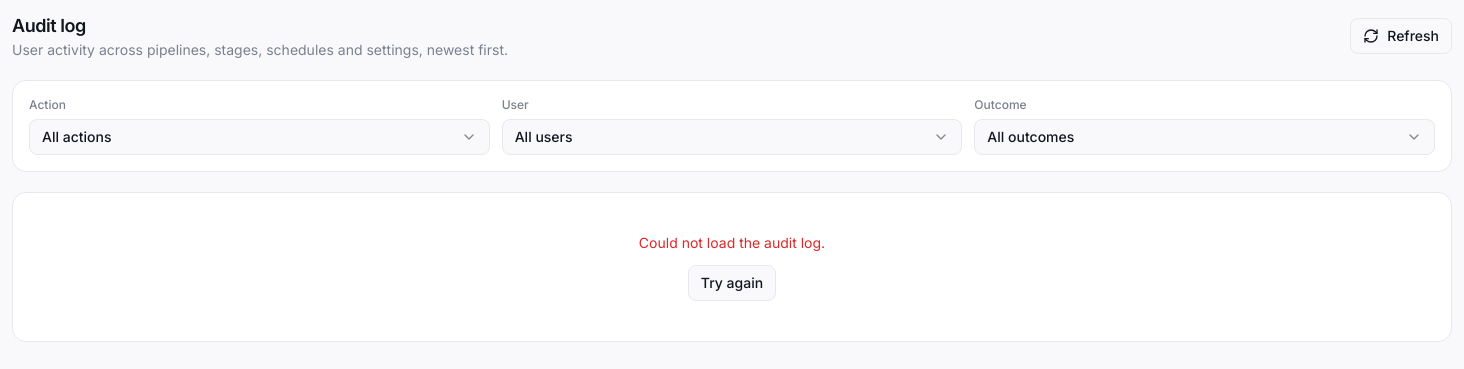
Test case: Audit › shows and retries list errors without presenting them as an empty history
Expected: the text "Could not load the audit log." is shown, 639,234 -> 825,251
Click the button "Try again": [732, 283] box 688,265 -> 776,301
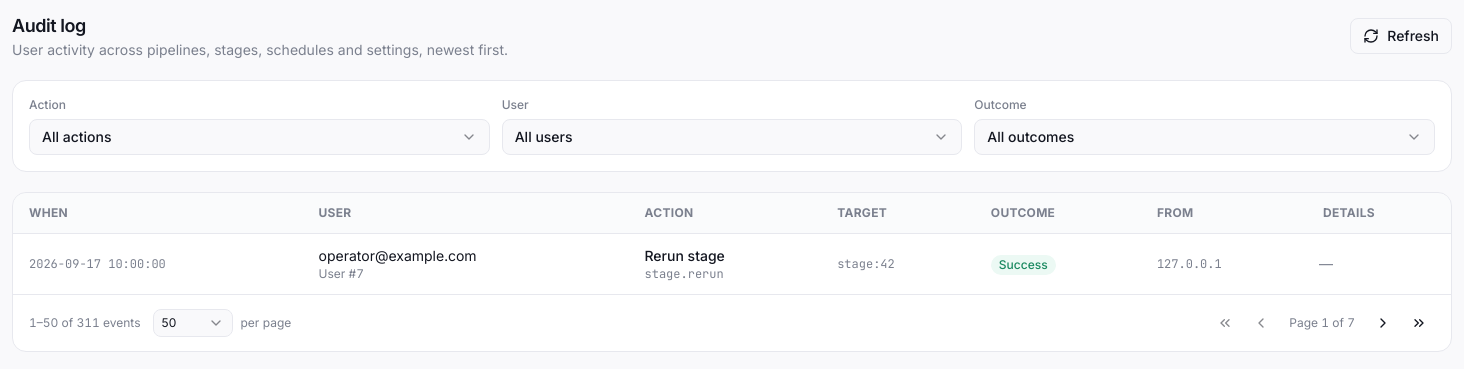
Result: the text "stage:42" is shown at 821,234 -> 975,294
